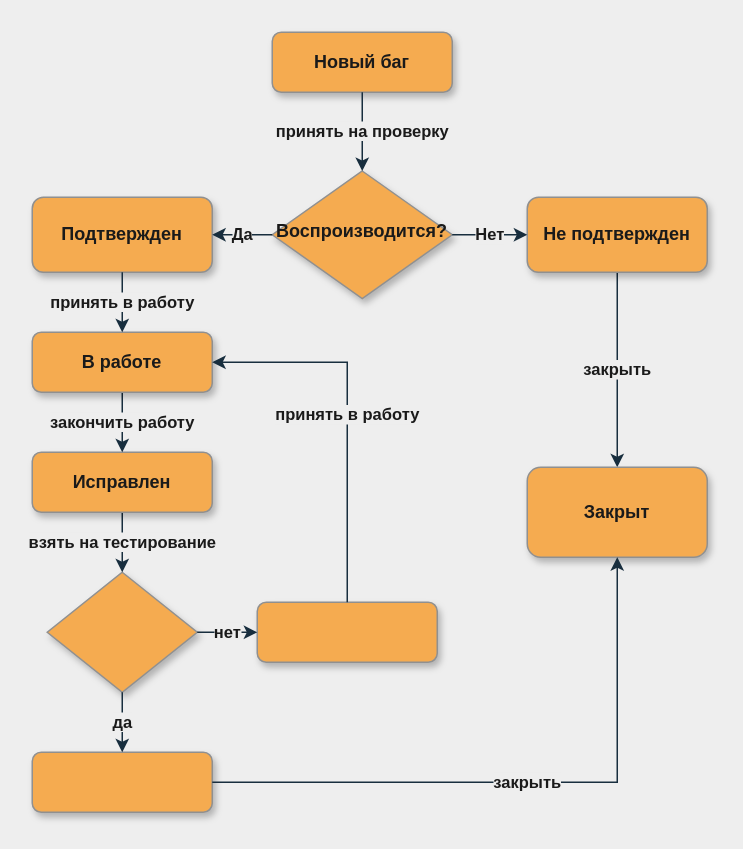
Image size: 743x849. Some labels were removed from this diagram. The shapes that lost their labels are listed below. From the top down, each one's centre as x and y in pixels, then its label:
(123,634): Тест пройден?
(348,634): Переоткрыт
(123,784): Проверен
